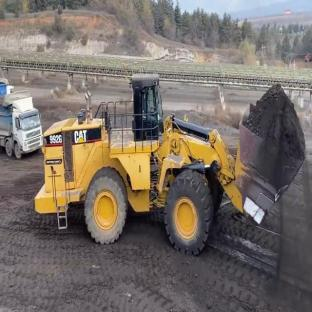ExcavationMachinery: (84, 70, 312, 246)
Vehicle: (4, 92, 43, 163)
